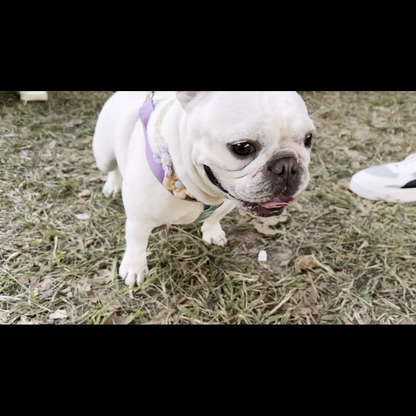bulldog: (88, 92, 321, 290)
